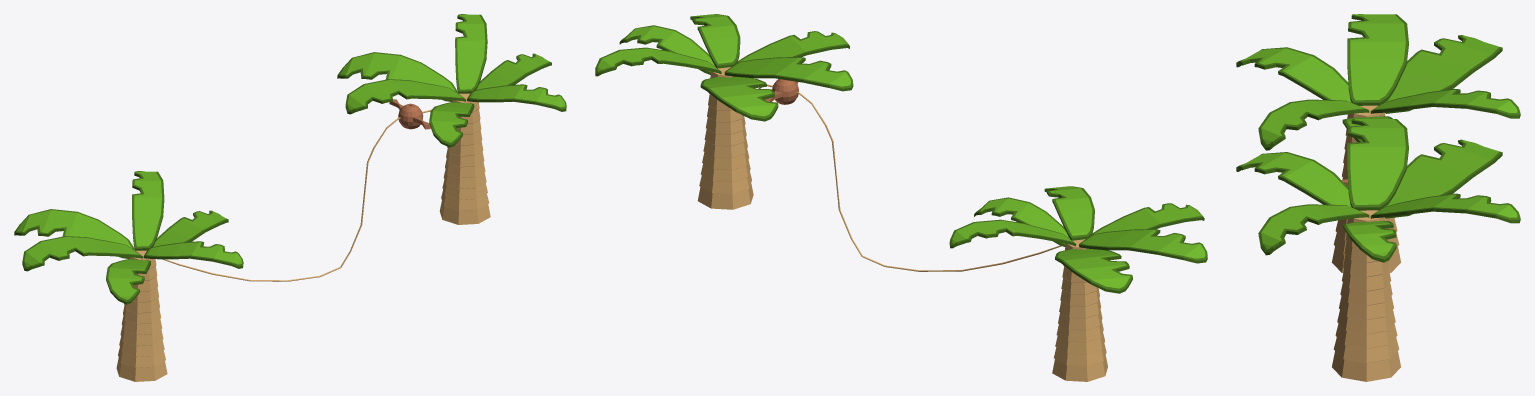
The model's file is palm_zipline_high_long.glb.
3 renders of one model, left to right at view 1: azimuth 30°, elevation 25°; view 2: azimuth 150°, elevation 25°; view 3: azimuth 270°, elevation 25°, orthographic. The views are drawn at different scales.
Parts seen in each view (by area): view 1: Zipline-col, HolderRight-col; view 2: Zipline-col, HolderRight-col; view 3: Zipline-col.
Boxes of the visible parts, <box> form: Zipline-col: <box>14,14,566,381</box>; HolderRight-col: <box>389,99,430,129</box>; Zipline-col: <box>595,14,1207,381</box>; HolderRight-col: <box>765,79,798,104</box>; Zipline-col: <box>1236,14,1520,381</box>.
Bounding box in the file's own units: 17 × 6.96 × 6.02.
1 material, 1 textured.
